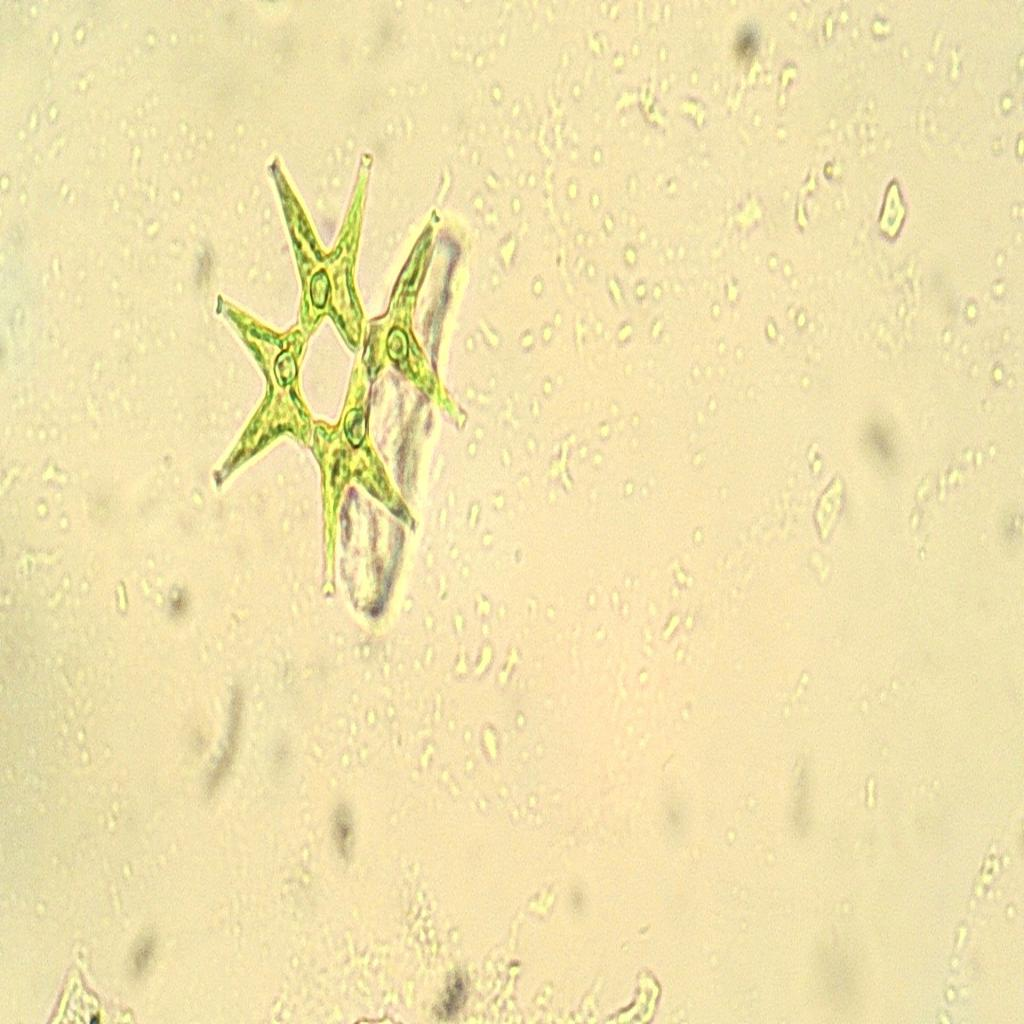Pediastrum_75FI: (200, 138, 484, 615)
